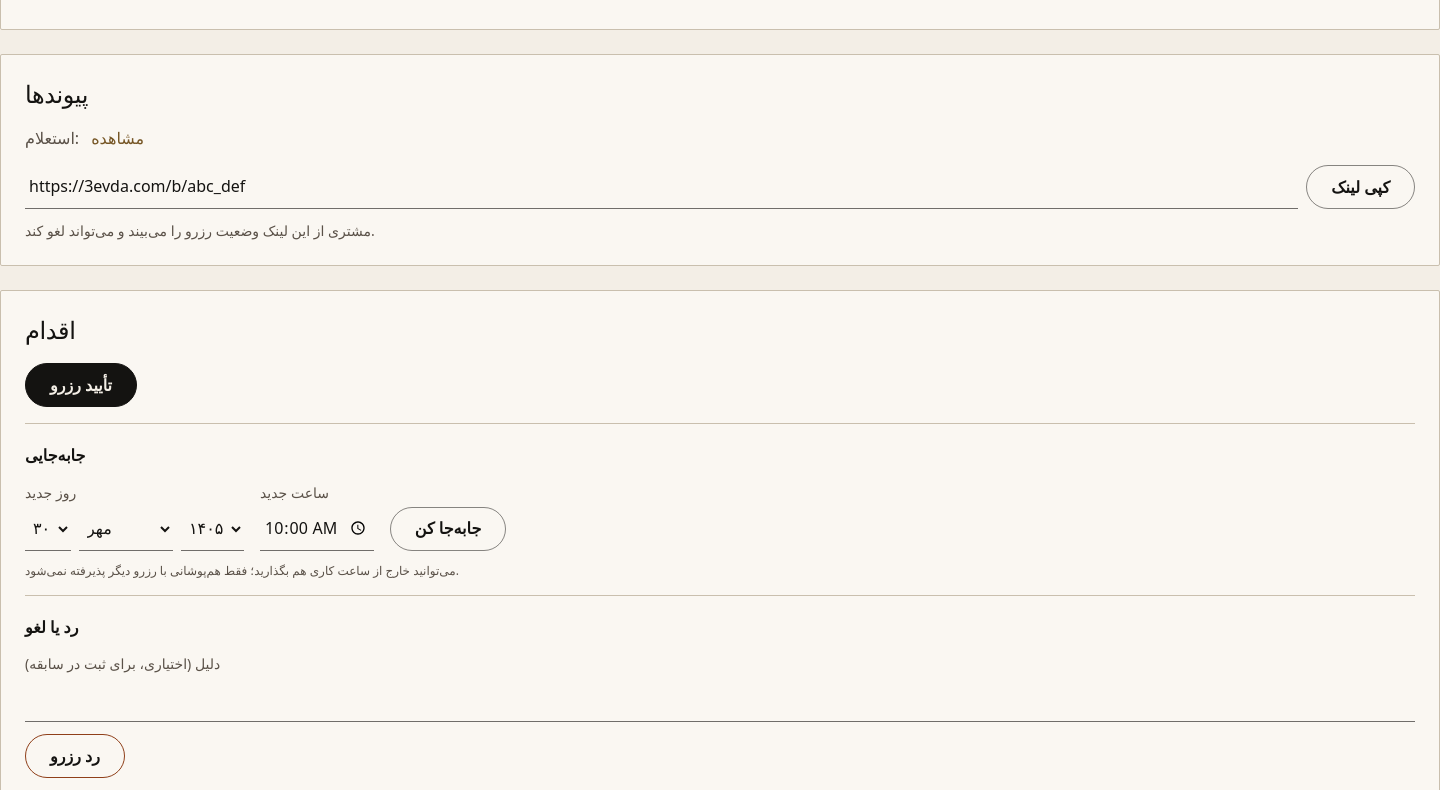
it: BookingDetailPage › confirms a waiting booking
This screenshot has width=1440, height=790.
(page scrolled)
Click the button "تأیید رزرو": coordinates (81, 385) [25,363,137,407]
(page scrolled)
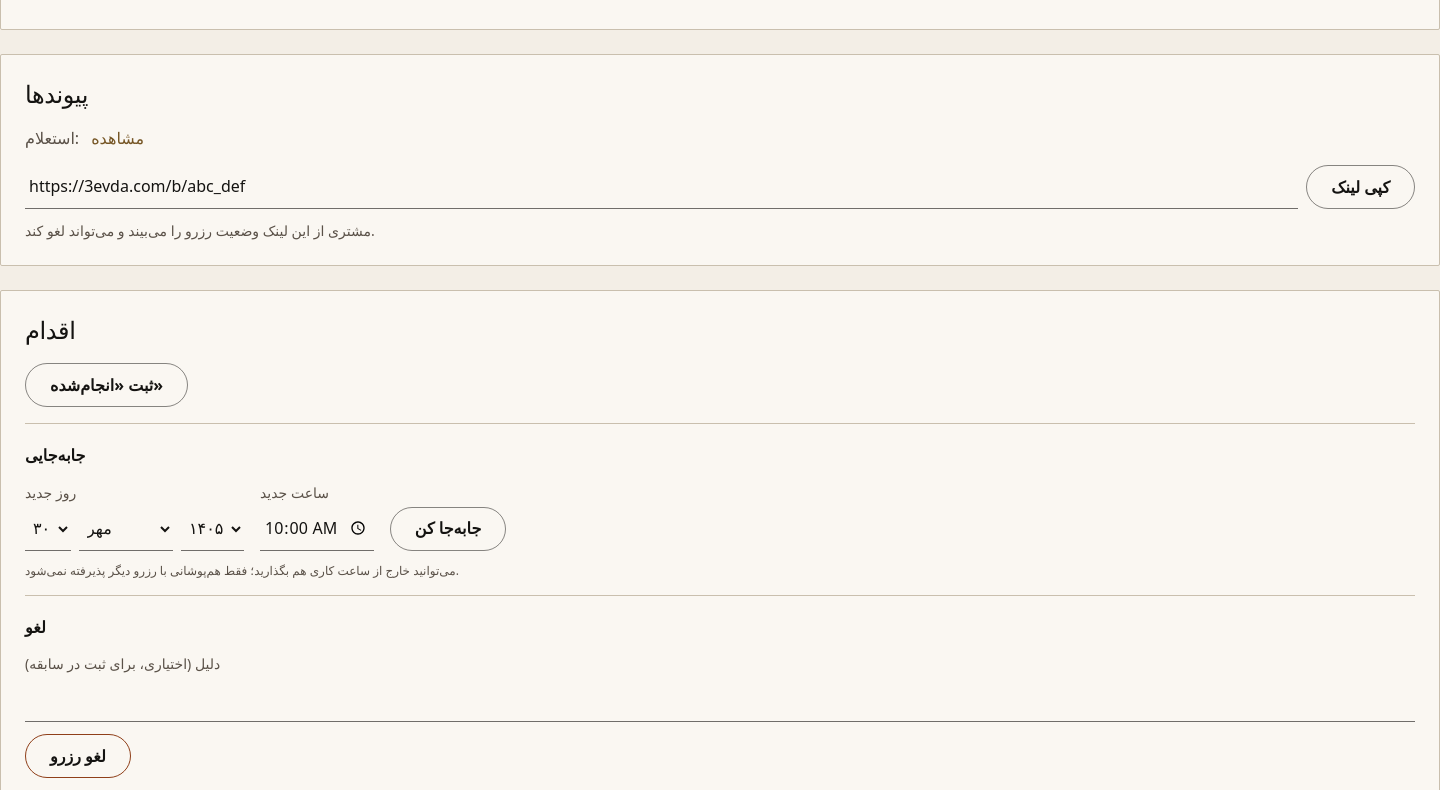
Expected: the button "تأیید رزرو" is gone
Expected: the button "ثبت «انجام‌شده»" is shown, [25,363,188,407]
